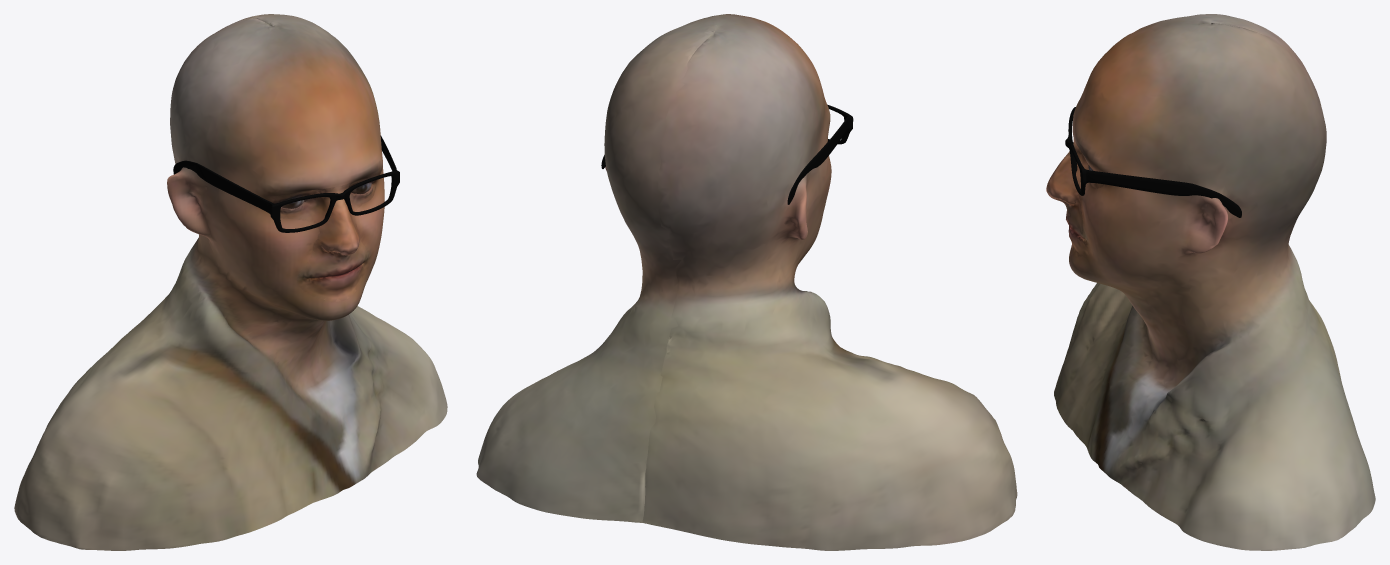
The model's file is JorgeLorenzo.gltf.
The picture shows the model from 3 angles, left to right: view 1: azimuth 30°, elevation 25°; view 2: azimuth 150°, elevation 25°; view 3: azimuth 270°, elevation 25°; orthographic projection. The views are drawn at different scales.
Visible parts, largest first — view 1: JorgeLorenzo; view 2: JorgeLorenzo; view 3: JorgeLorenzo.
Part boxes in pixels (<box>): JorgeLorenzo: <box>14,14,447,550</box>; JorgeLorenzo: <box>476,14,1017,550</box>; JorgeLorenzo: <box>1046,14,1375,550</box>.
Bounding box in the file's own units: 8.82 × 8 × 5.49.
Materials: 1 (1 with a texture image).
